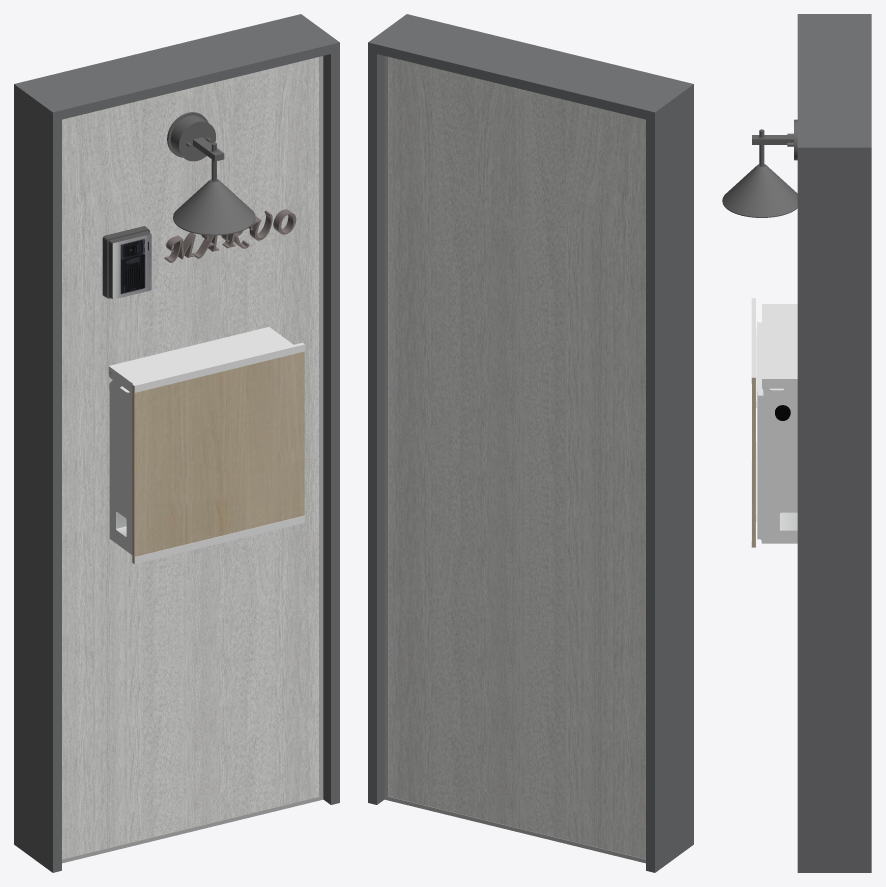
File: 640-1620_nordicoffwhite.fbx
The picture shows the model from 3 angles, left to right: view 1: azimuth 30°, elevation 25°; view 2: azimuth 150°, elevation 25°; view 3: azimuth 270°, elevation 25°; orthographic projection. The views are drawn at different scales.
Visible parts, largest first — view 1: 640-1620_nordicoffwhite; view 2: 640-1620_nordicoffwhite; view 3: 640-1620_nordicoffwhite.
Part boxes in pixels (x1=…): 640-1620_nordicoffwhite: x1=14, y1=14, x2=339, y2=872; 640-1620_nordicoffwhite: x1=368, y1=14, x2=693, y2=872; 640-1620_nordicoffwhite: x1=722, y1=14, x2=871, y2=872.
Bounding box in the file's own units: 64 × 162 × 30.22.
Materials: 14 (5 with a texture image).
